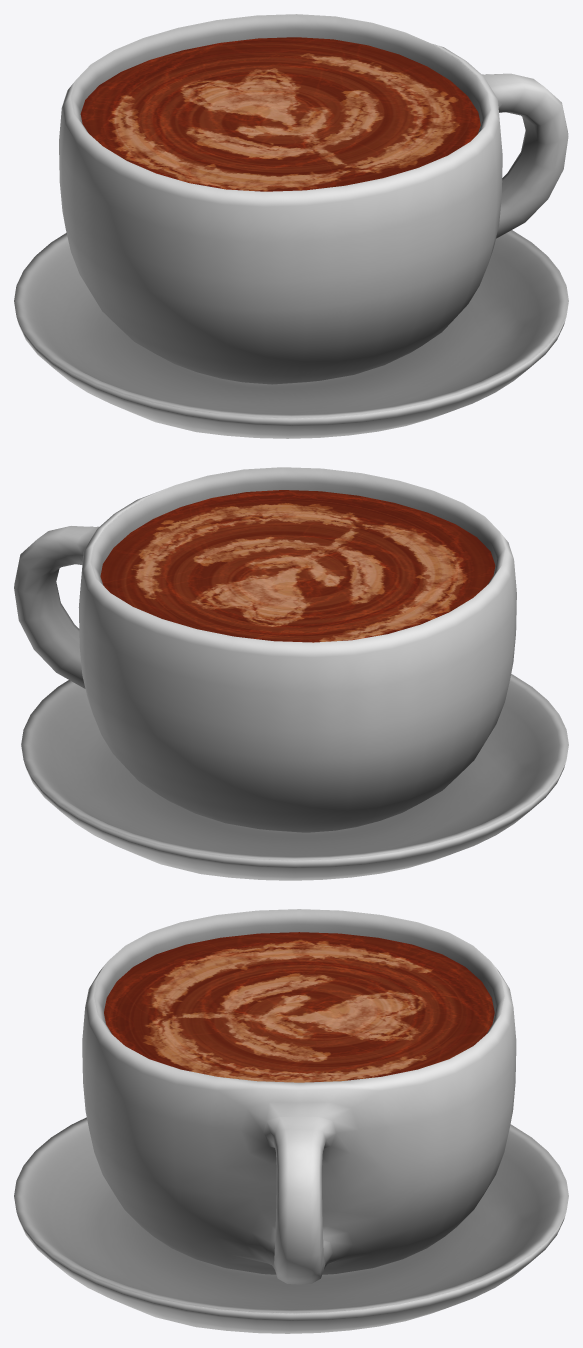
The model's file is coffee_and_cup.glb.
The picture shows the model from 3 angles, top to bottom: view 1: azimuth 30°, elevation 25°; view 2: azimuth 150°, elevation 25°; view 3: azimuth 270°, elevation 25°; orthographic projection.
Parts seen in each view (by area): view 1: Coffee, Plate; view 2: Coffee, Plate; view 3: Coffee, Plate.
Part boxes in pixels (bbox=[...]): Coffee: bbox=[59, 14, 568, 384]; Plate: bbox=[14, 230, 568, 438]; Coffee: bbox=[14, 467, 516, 832]; Plate: bbox=[21, 674, 568, 880]; Coffee: bbox=[82, 909, 516, 1284]; Plate: bbox=[14, 1117, 568, 1333].
Size of the model in its own units: 0.0126 by 0.00569 by 0.0118.
1 material, 1 textured.
